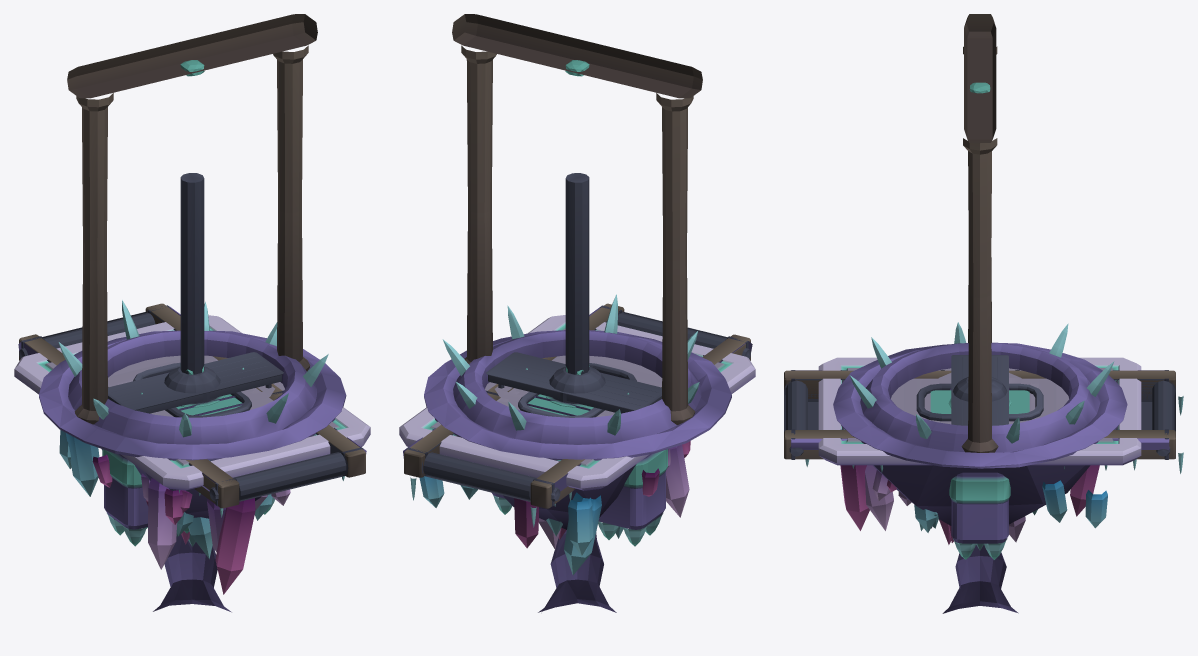
Rendered from caverns-2-BYoiUCFE.glb.
3 renders of one model, left to right at view 1: azimuth 30°, elevation 25°; view 2: azimuth 150°, elevation 25°; view 3: azimuth 270°, elevation 25°, orthographic. The views are drawn at different scales.
Visible parts, largest first — view 1: pressFrame_7.5x6x2.5x7#0, geyserVent_8#0, block_10x2x14#0, belt_7x1.5x17x0#0, press_7.5x6x2.5#0, burner_7x1.2x2#0, support_1_round#0, block_8x2x8#0, jetVent_3x5#0, barHub_6.3x1.2#0, hover_7x1.5x7#0, block_7x2x7#0; view 2: pressFrame_7.5x6x2.5x7#0, geyserVent_8#0, block_10x2x14#0, press_7.5x6x2.5#0, belt_7x1.5x17x0#0, burner_7x1.2x2#0, support_1_round#0, jetVent_3x5#0, barHub_6.3x1.2#0, block_8x2x8#0, hover_7x1.5x7#0; view 3: geyserVent_8#0, block_10x2x14#0, pressFrame_7.5x6x2.5x7#0, belt_7x1.5x17x0#0, press_7.5x6x2.5#0, support_1_round#0, jetVent_3x5#0, burner_7x1.2x2#0, hover_7x1.5x7#0, block_8x2x8#0, barHub_6.3x1.2#0.
Part boxes in pixels (x1,y1,x2,y2): pressFrame_7.5x6x2.5x7#0: (67,14,317,424); geyserVent_8#0: (39,300,346,460); block_10x2x14#0: (14,315,370,594); belt_7x1.5x17x0#0: (18,303,366,517); press_7.5x6x2.5#0: (102,173,274,546); burner_7x1.2x2#0: (108,352,283,413); support_1_round#0: (153,534,231,612); block_8x2x8#0: (146,478,267,569); jetVent_3x5#0: (133,362,251,417); barHub_6.3x1.2#0: (164,365,223,407); hover_7x1.5x7#0: (108,355,273,415); block_7x2x7#0: (188,517,212,558); pressFrame_7.5x6x2.5x7#0: (452,14,702,424); geyserVent_8#0: (424,294,731,460); block_10x2x14#0: (399,315,755,575); press_7.5x6x2.5#0: (492,173,667,546); belt_7x1.5x17x0#0: (403,303,752,527); burner_7x1.2x2#0: (486,352,661,413); support_1_round#0: (538,530,616,612); jetVent_3x5#0: (518,363,636,417); barHub_6.3x1.2#0: (546,366,605,407); block_8x2x8#0: (460,444,689,517); hover_7x1.5x7#0: (497,355,662,415); geyserVent_8#0: (833,322,1127,468); block_10x2x14#0: (818,357,1141,530); pressFrame_7.5x6x2.5x7#0: (961,14,998,452); belt_7x1.5x17x0#0: (784,370,1183,473); press_7.5x6x2.5#0: (949,472,1010,559); support_1_round#0: (942,544,1018,613); jetVent_3x5#0: (916,383,1043,421); burner_7x1.2x2#0: (951,355,1008,425); hover_7x1.5x7#0: (904,378,1056,422); block_8x2x8#0: (898,480,1067,522); barHub_6.3x1.2#0: (948,377,1011,407).
Bounding box in the file's own units: 12.78 × 26.64 × 17.34.
